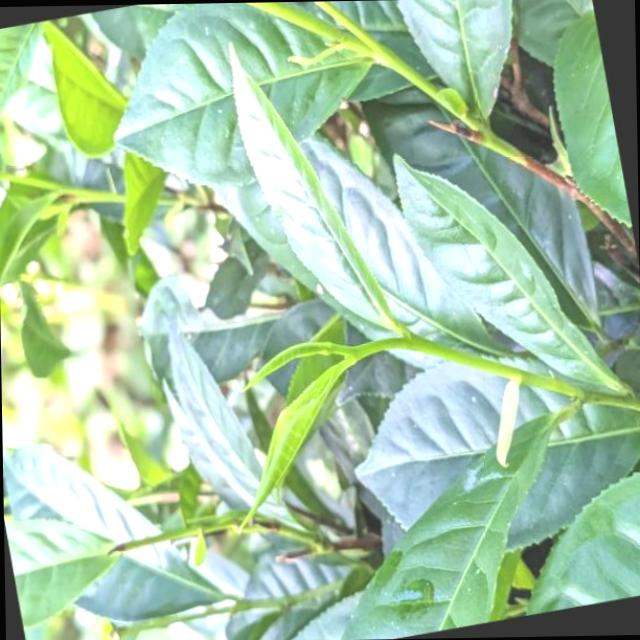Stem: (349, 340, 370, 361)
